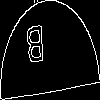B: (25, 24, 46, 73)
